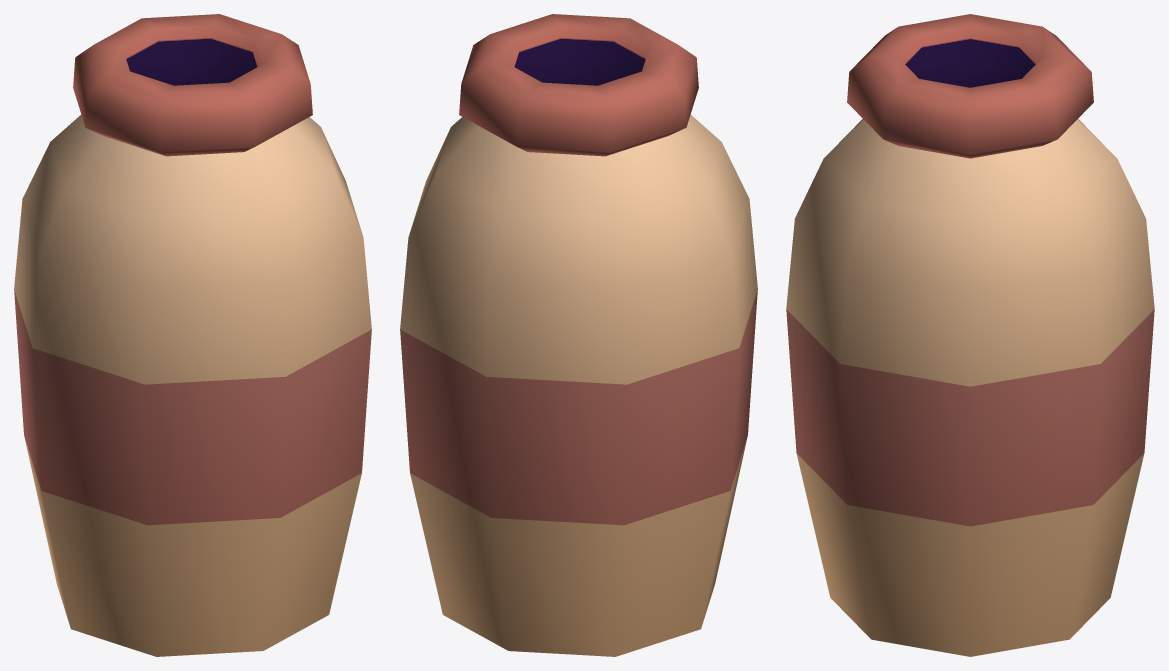
File: Vase3.fbx
3 renders of one model, left to right at view 1: azimuth 30°, elevation 25°; view 2: azimuth 150°, elevation 25°; view 3: azimuth 270°, elevation 25°, orthographic.
Parts seen in each view (by area): view 1: Vase3; view 2: Vase3; view 3: Vase3.
Boxes of the visible parts, bbox=[...] form: Vase3: bbox=[14, 14, 371, 656]; Vase3: bbox=[400, 14, 757, 656]; Vase3: bbox=[786, 14, 1154, 656].
Bounding box in the file's own units: 52.56 × 85.1 × 52.56.
